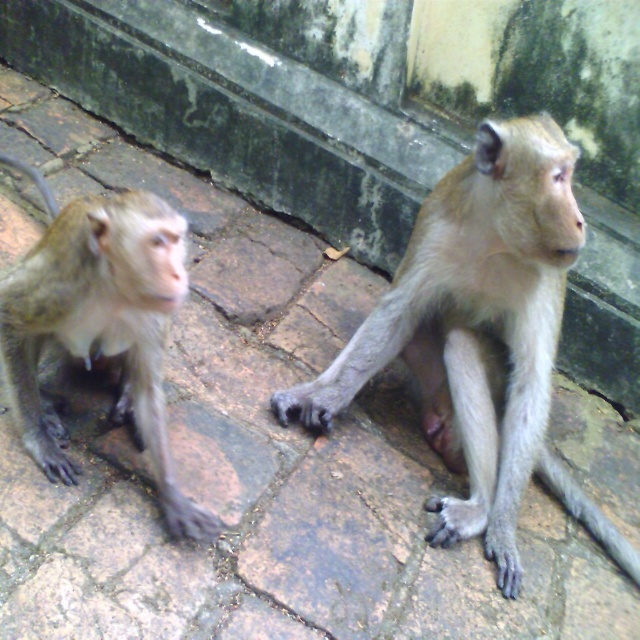Monkey: (266, 109, 640, 597), (0, 155, 226, 545)
